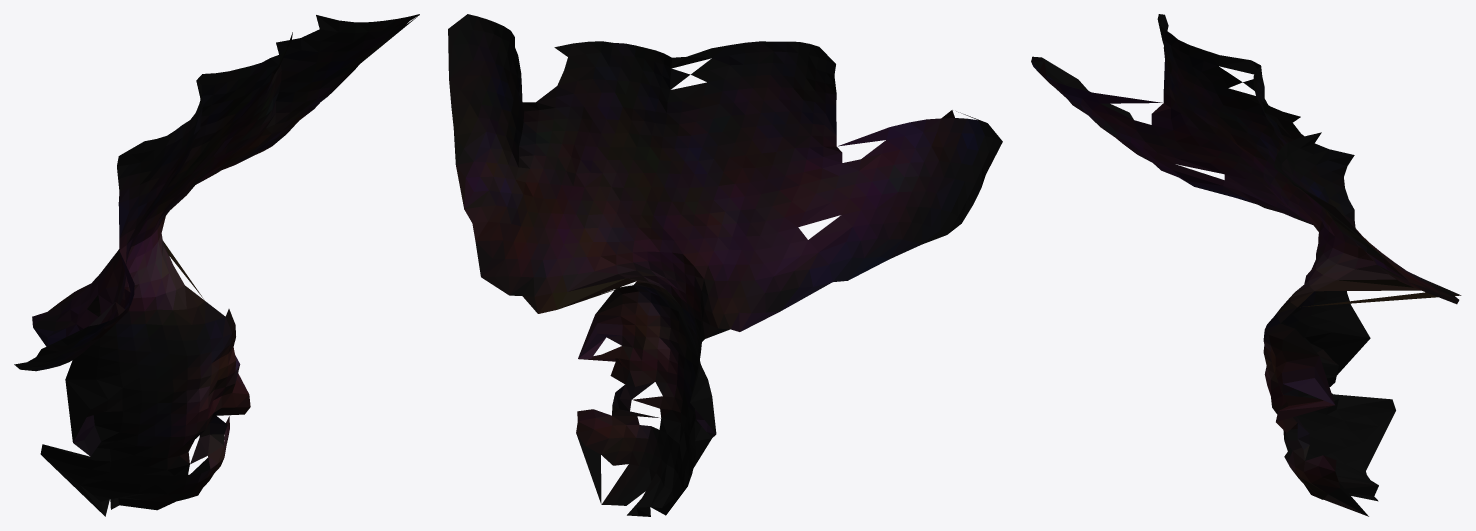
The picture shows the model from 3 angles, left to right: view 1: azimuth 30°, elevation 25°; view 2: azimuth 150°, elevation 25°; view 3: azimuth 270°, elevation 25°; orthographic projection. The views are drawn at different scales.
Visible parts, largest first — view 1: ofMesh; view 2: ofMesh; view 3: ofMesh.
Boxes of the visible parts, <box> form: ofMesh: <box>14,14,419,516</box>; ofMesh: <box>448,14,1002,516</box>; ofMesh: <box>1031,14,1461,516</box>.
Bounding box in the file's own units: 440 × 400 × 354.
1 material, 1 textured.
